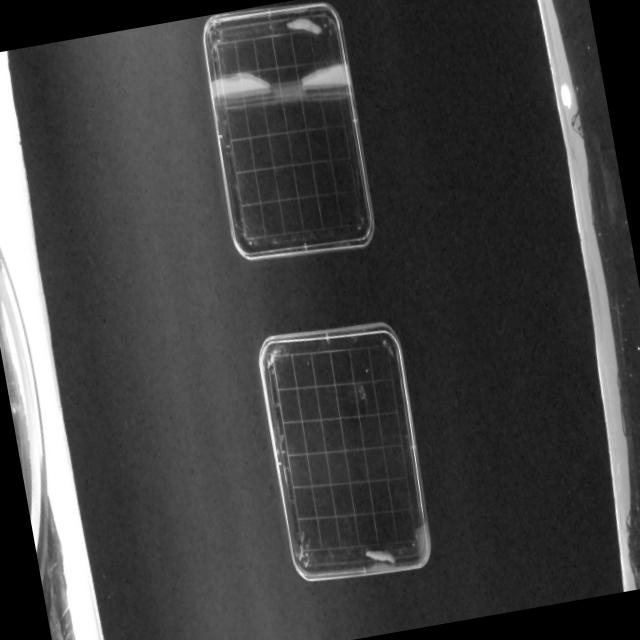larva: (284, 12, 324, 40), (364, 540, 398, 572)
